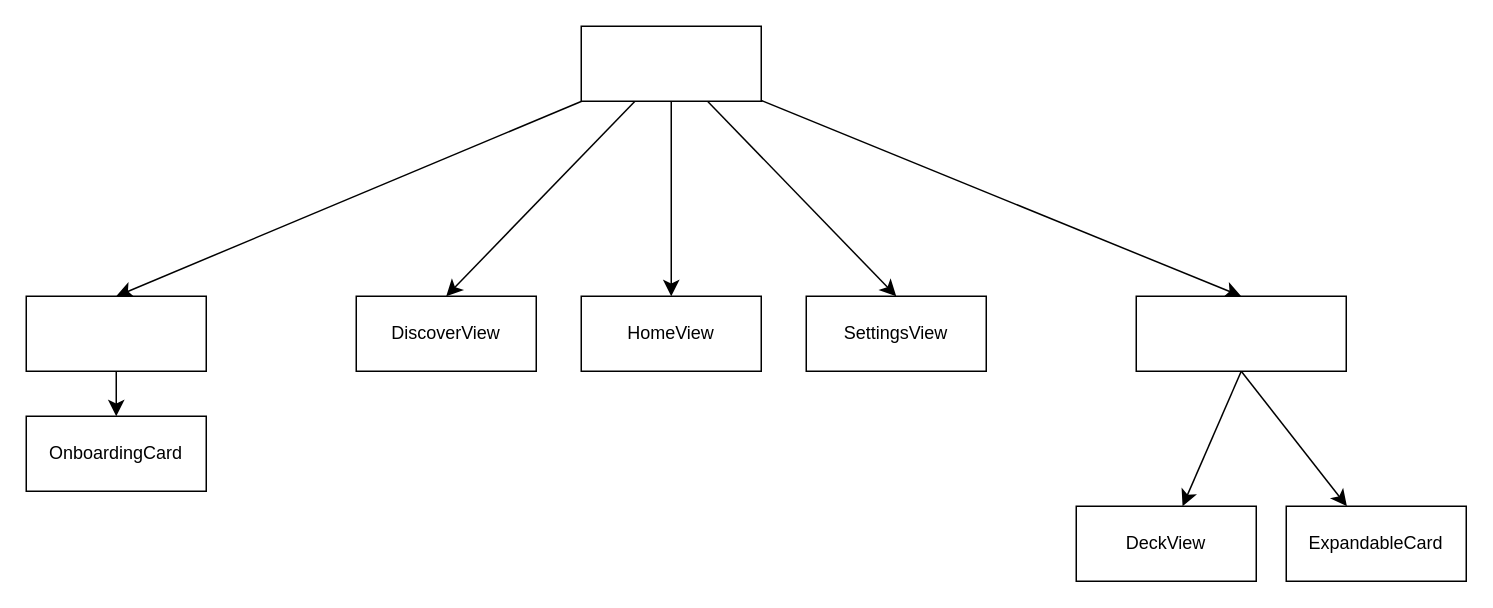
This 1493x608 diagram has some shape labels left out. The box of each missing label's shape, as (x1, y1, x2, y2) in pixels:
ContentView: (580, 25, 761, 101)
ImportSharedDeckView: (1135, 295, 1346, 371)
OnboardingView: (25, 295, 206, 371)
